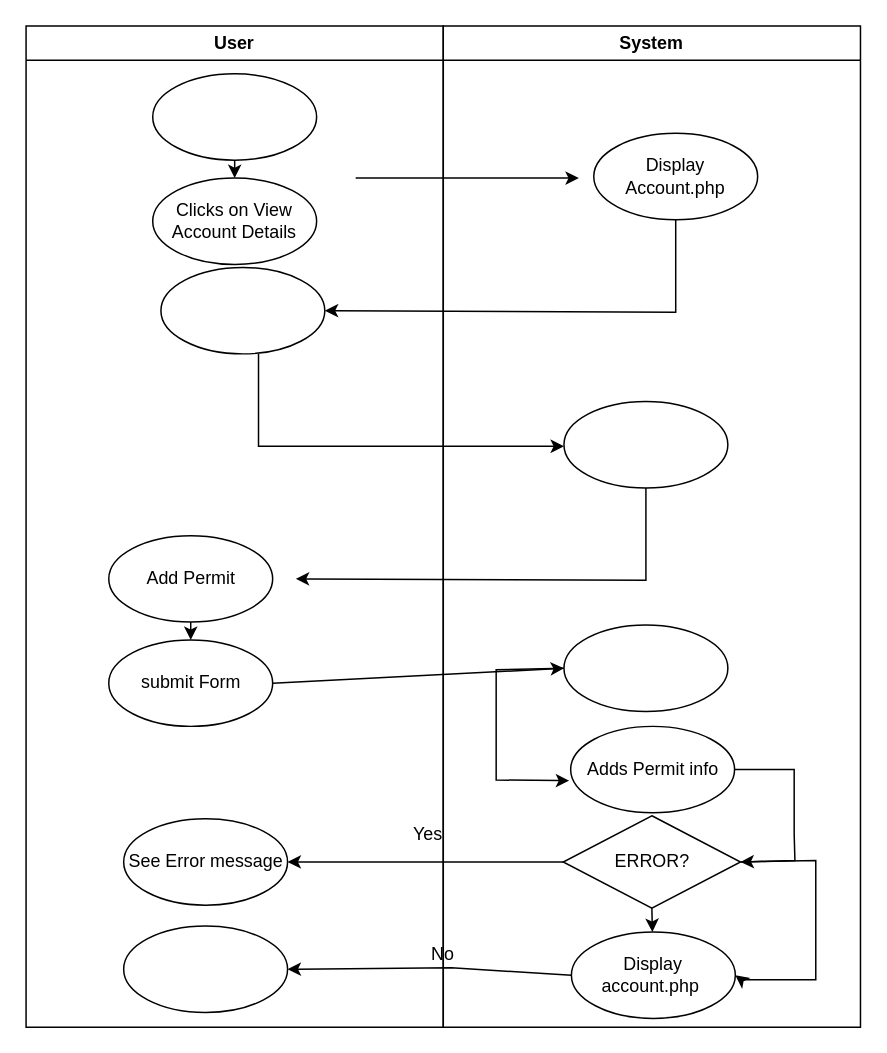
Image size: 887x1053. Some labels were removed from this diagram. The shapes that lost their labels are listed below. From the top down, each one's centre as x and y in pixels, then its label:
At [234,116]: "In the Home Page".
At [242,310]: "Clicks on Add Permit".
At [645,444]: "Display Permit-add.php".
At [645,667]: "Connects to DB".
At [205,968]: "See account.php".
